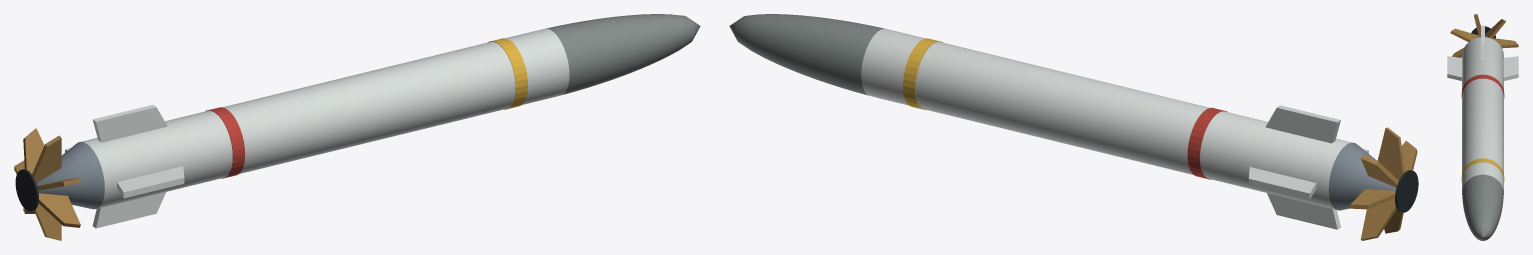
The model's file is ugst_torpedo.glb.
The picture shows the model from 3 angles, left to right: view 1: azimuth 30°, elevation 25°; view 2: azimuth 150°, elevation 25°; view 3: azimuth 270°, elevation 25°; orthographic projection. The views are drawn at different scales.
Visible parts, largest first — view 1: ugst_torpedo; view 2: ugst_torpedo; view 3: ugst_torpedo.
Part boxes in pixels (x1,y1,x2,y2): ugst_torpedo: [14, 14, 700, 240]; ugst_torpedo: [729, 14, 1418, 240]; ugst_torpedo: [1447, 14, 1518, 240].
Bounding box in the file's own units: 10 × 1.51 × 1.51.
